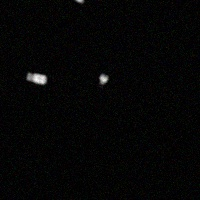chromosome: (25, 70, 48, 87), (96, 74, 109, 85), (59, 0, 85, 3)
